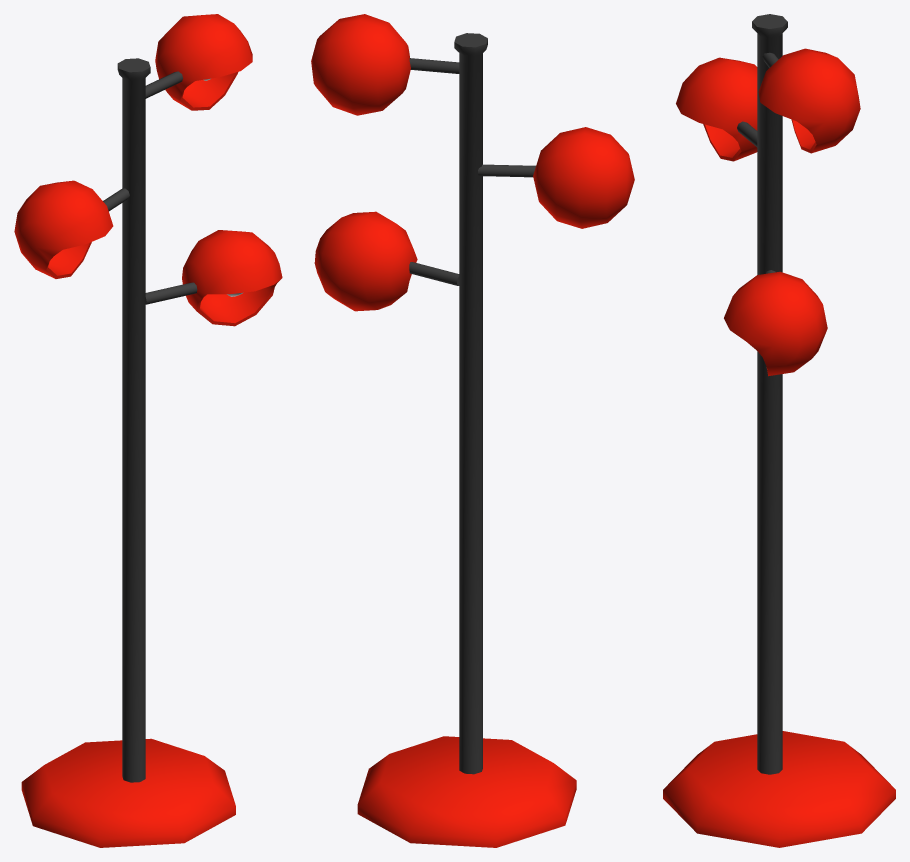
File: Floor_Lamp.FBX
3 views of the same model, side by side, from view 1: azimuth 30°, elevation 25°; view 2: azimuth 150°, elevation 25°; view 3: azimuth 270°, elevation 25° (orthographic). The views are drawn at different scales.
Parts seen in each view (by area): view 1: Floor_Lamp; view 2: Floor_Lamp; view 3: Floor_Lamp.
Part boxes in pixels (bbox=[...]): Floor_Lamp: bbox=[14, 14, 282, 847]; Floor_Lamp: bbox=[311, 14, 634, 847]; Floor_Lamp: bbox=[663, 14, 895, 847].
Size of the model in its own units: 106 by 275 by 73.35.
